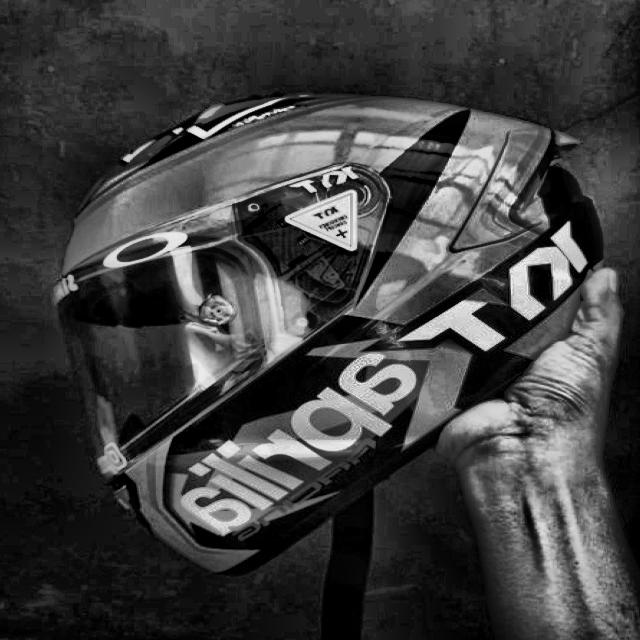Helmet: (64, 90, 594, 574)
